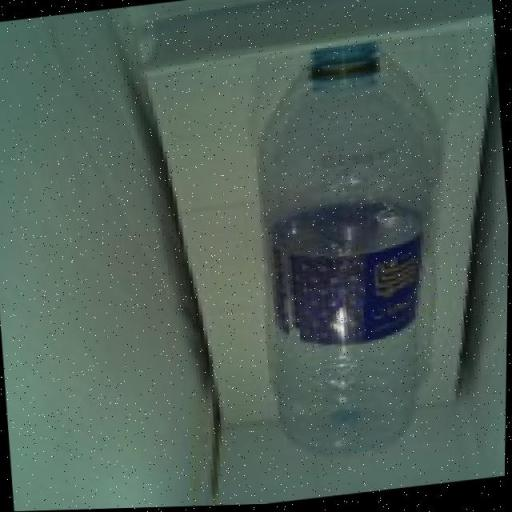plastic: (262, 46, 432, 459)
